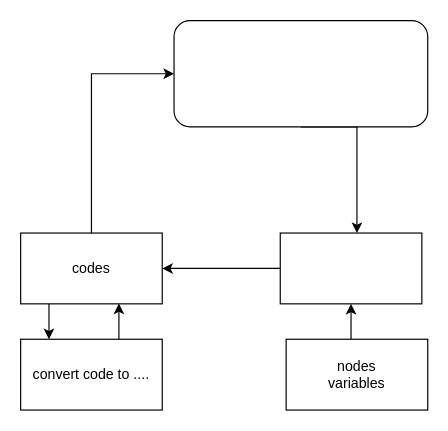
Image size: 448x431. Some labels were removed from this diagram. The shapes that lost their labels are listed below. From the top down, each one's box as (x1, y1, x2, y2) in pixels, then its label:
(173, 19, 428, 127): V.V.S (GUI)
(279, 232, 422, 304): Create New Graph
